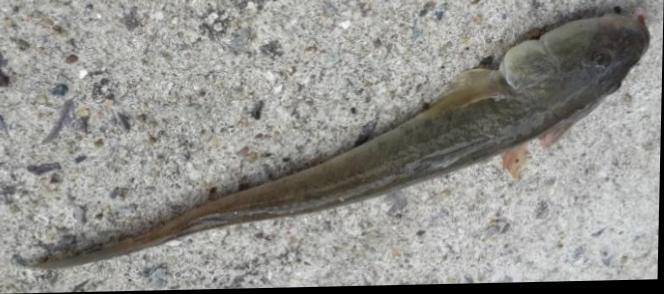fish: (18, 17, 649, 270)
